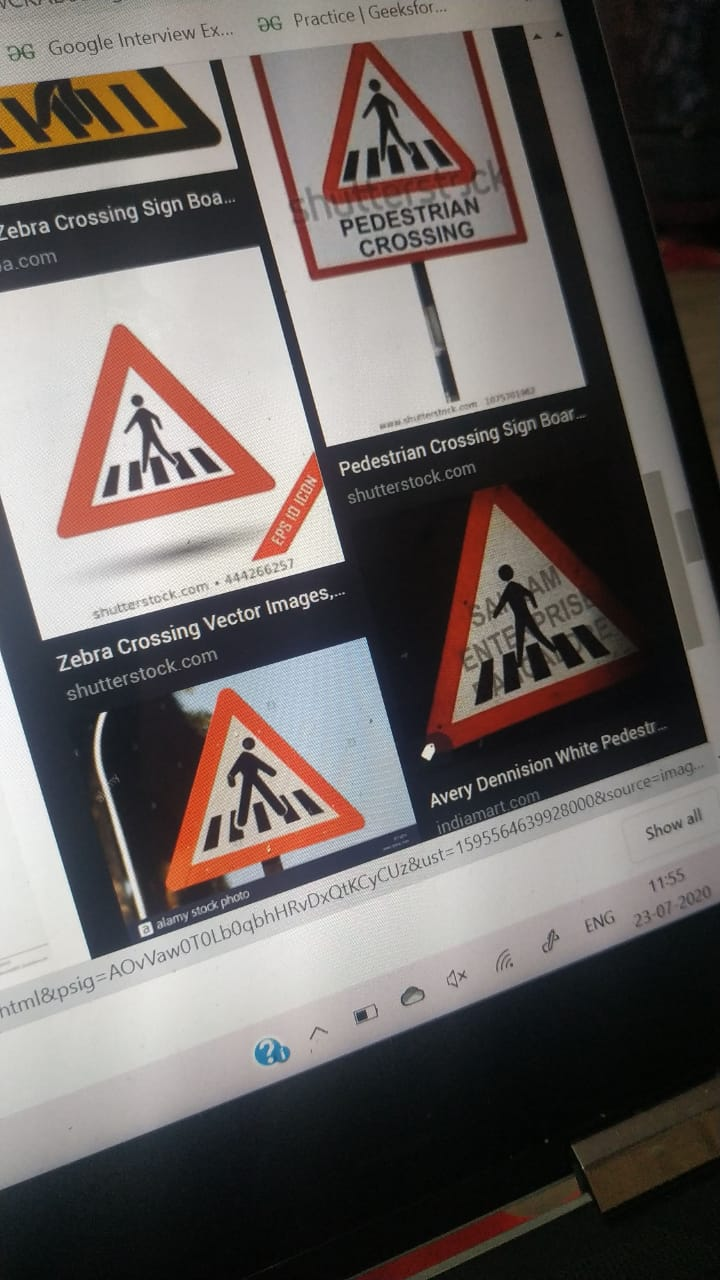PEDESTRIAN CROSSING: (424, 433, 686, 729), (275, 1, 547, 261), (125, 665, 406, 887), (48, 302, 281, 511)
